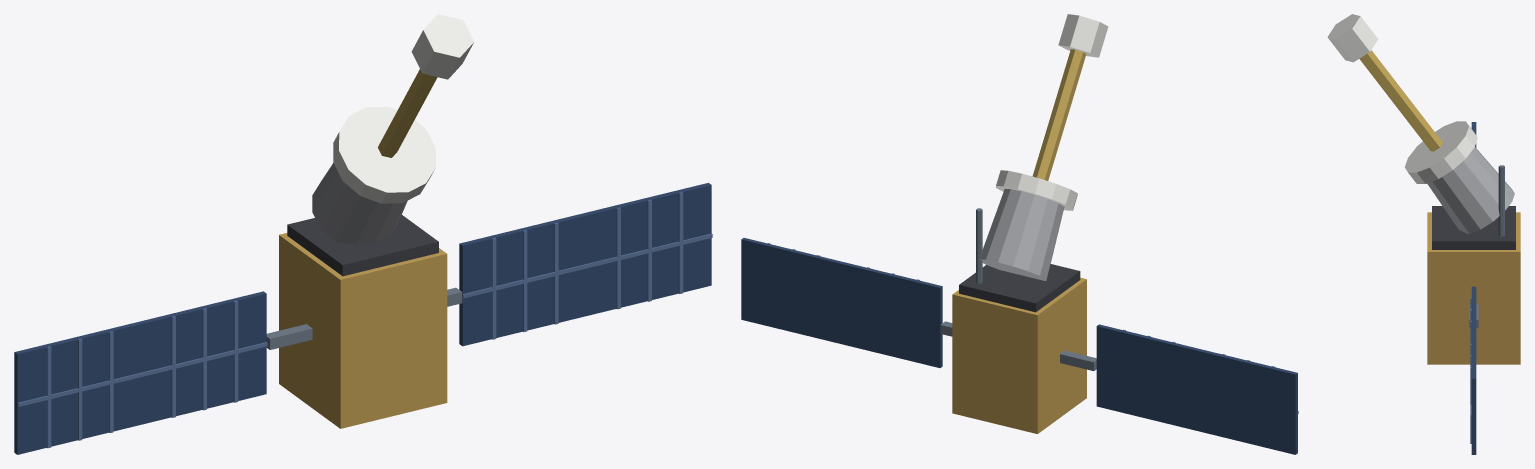
The model's file is Pay_Satellite_S.fbx.
The picture shows the model from 3 angles, left to right: view 1: azimuth 30°, elevation 25°; view 2: azimuth 150°, elevation 25°; view 3: azimuth 270°, elevation 25°; orthographic projection. The views are drawn at different scales.
Visible parts, largest first — view 1: Pay_Satellite_S; view 2: Pay_Satellite_S; view 3: Pay_Satellite_S.
Boxes of the visible parts, x1,y1,x2,y2 form: Pay_Satellite_S: [14, 14, 712, 454]; Pay_Satellite_S: [741, 14, 1298, 454]; Pay_Satellite_S: [1327, 14, 1520, 454].
Size of the model in its own units: 3.9 by 2.33 by 1.24.
1 material, 1 textured.
